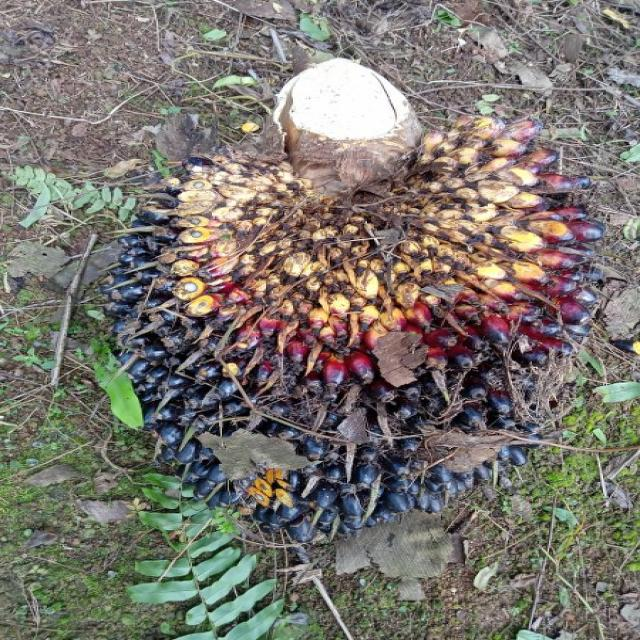fraksi 00: (20, 60, 640, 581)
